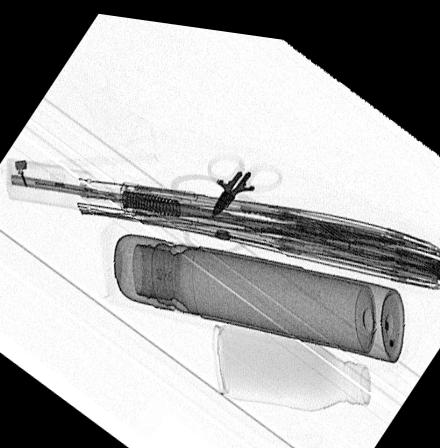Scissors: (205, 143, 285, 213)
